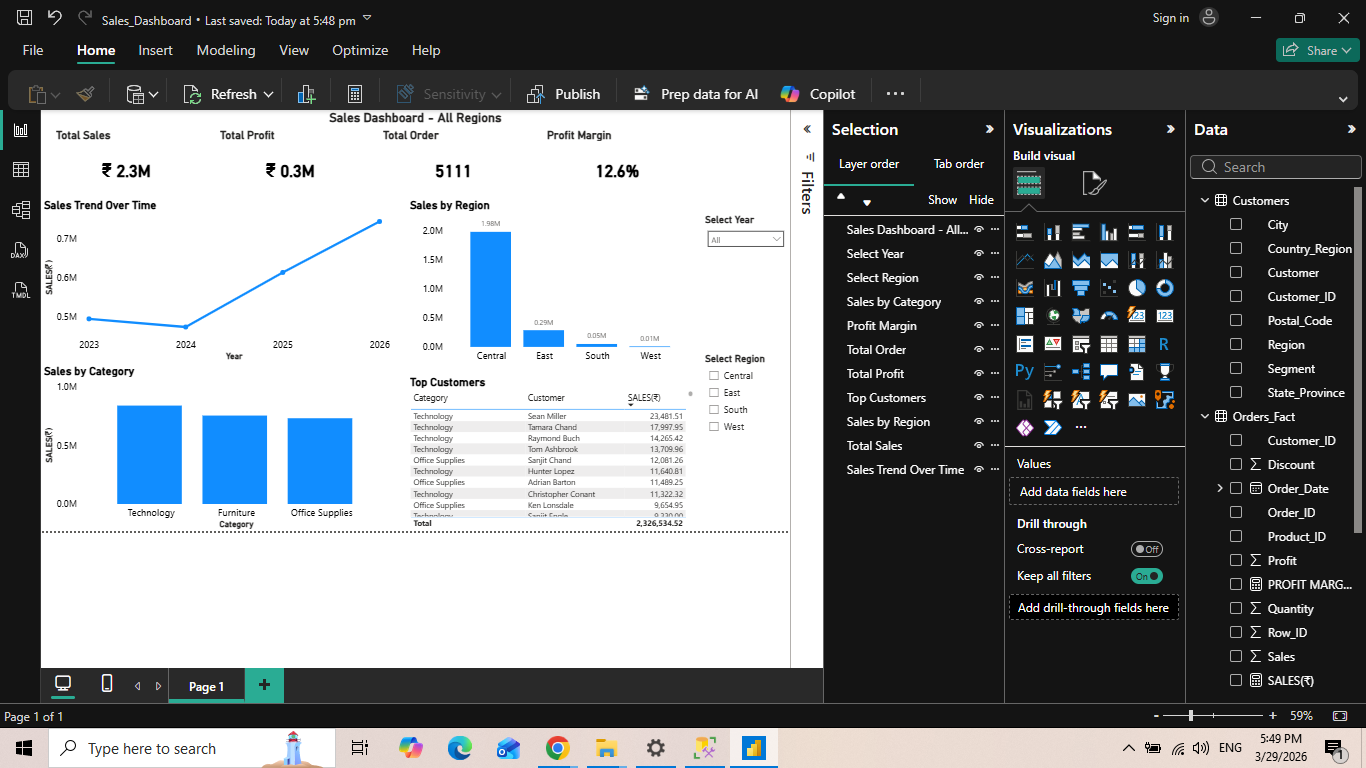

Layout of this report page (visuals, bound fields, positions):
{"tool":"powerbi","page":{"name":"Page 1","canvas":[1280,720],"ordinal":0},"visuals":[{"type":"lineChart","title":"Sales Trend Over Time","fields":{"Y":["Orders_Fact.Total Sales","Orders_Fact.Total Sales"],"Category":["Orders_Fact.Order_Date.Variation.Date Hierarchy.Year","Orders_Fact.Order_Date.Variation.Date Hierarchy.Quarter","Orders_Fact.Order_Date.Variation.Date Hierarchy.Month","Orders_Fact.Order_Date.Variation.Date Hierarchy.Day"]},"box":[0,150.4,601.5,283.7],"z":0},{"type":"card","title":"Total Sales","fields":{"Values":["Orders_Fact.Total Sales"]},"box":[20,30,250,120],"z":1000},{"type":"clusteredColumnChart","title":"Sales by Region","fields":{"Category":["Customers.Region"],"Y":["Orders_Fact.TOTAL SALES"]},"box":[625.5,150.4,493.9,302.5],"z":2000},{"type":"tableEx","title":"Top Customers","fields":{"Values":["Products.Category","Customers.Customer_Name","Orders_Fact.Total Sales"]},"box":[624.9,453.5,493.9,267.1],"z":3000},{"type":"card","title":"Total Profit","fields":{"Values":["Orders_Fact.Total Profit"]},"box":[300,30,250,120],"z":4000},{"type":"card","title":"Total Order","fields":{"Values":["Orders_Fact.Total Orders"]},"box":[580,30,250,120],"z":5000},{"type":"card","title":"Profit Margin","fields":{"Values":["Orders_Fact.Profit Margin"]},"box":[860,30,250,120],"z":6000},{"type":"clusteredColumnChart","title":"Sales by Category","fields":{"Category":["Products.Category"],"Y":["Orders_Fact.Total Sales"]},"box":[0,433.4,601.4,287.2],"z":7000},{"type":"slicer","title":"Select Region","fields":{"Values":["Customers.Region"]},"box":[1129.6,415.3,150.4,199.9],"z":8000},{"type":"slicer","title":"Select Year","fields":{"Values":["Orders_Fact.Order_Date.Variation.Date Hierarchy.Year"]},"box":[1129.6,177.7,150.4,199.9],"z":10000},{"type":"textbox","box":[0,0,1280,30.8],"z":10001}]}

Visuals, with their boxes on the page's 1280x720 design canvas (x1, y1, x2, y2). These are canvas units, not pixel positions in the 1366x768 screenshot, which may show the page scaled, cropped or inside an application window:
"Sales Trend Over Time" lineChart: {"x1": 0, "y1": 150, "x2": 602, "y2": 434}
"Total Sales" card: {"x1": 20, "y1": 30, "x2": 270, "y2": 150}
"Sales by Region" clusteredColumnChart: {"x1": 626, "y1": 150, "x2": 1119, "y2": 453}
"Top Customers" tableEx: {"x1": 625, "y1": 454, "x2": 1119, "y2": 721}
"Total Profit" card: {"x1": 300, "y1": 30, "x2": 550, "y2": 150}
"Total Order" card: {"x1": 580, "y1": 30, "x2": 830, "y2": 150}
"Profit Margin" card: {"x1": 860, "y1": 30, "x2": 1110, "y2": 150}
"Sales by Category" clusteredColumnChart: {"x1": 0, "y1": 433, "x2": 601, "y2": 721}
"Select Region" slicer: {"x1": 1130, "y1": 415, "x2": 1280, "y2": 615}
"Select Year" slicer: {"x1": 1130, "y1": 178, "x2": 1280, "y2": 378}
textbox: {"x1": 0, "y1": 0, "x2": 1280, "y2": 31}
